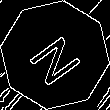N_NE: (23, 24, 87, 86)
